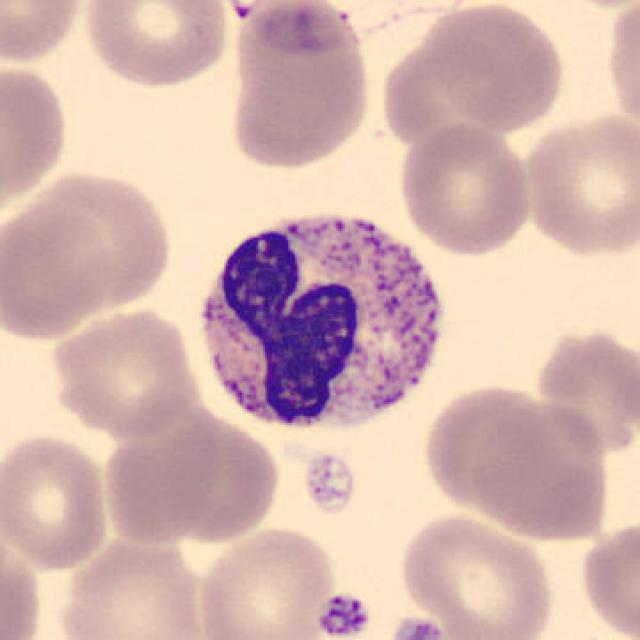Neutrophil: (187, 199, 457, 443)
Platelets: (300, 450, 358, 514), (314, 590, 373, 640), (387, 613, 446, 640)
RBC: (224, 0, 375, 175), (18, 166, 176, 319), (466, 397, 615, 543), (396, 509, 558, 640), (48, 303, 201, 441), (418, 379, 554, 520), (397, 120, 535, 257), (516, 108, 638, 259), (432, 0, 569, 134), (53, 529, 210, 640), (193, 523, 341, 640), (158, 411, 283, 548), (0, 428, 116, 575), (0, 197, 114, 344), (530, 323, 640, 462), (78, 0, 235, 90), (0, 55, 73, 222), (576, 515, 638, 640), (0, 0, 87, 67), (0, 522, 48, 640), (602, 0, 640, 139), (538, 0, 640, 14)
